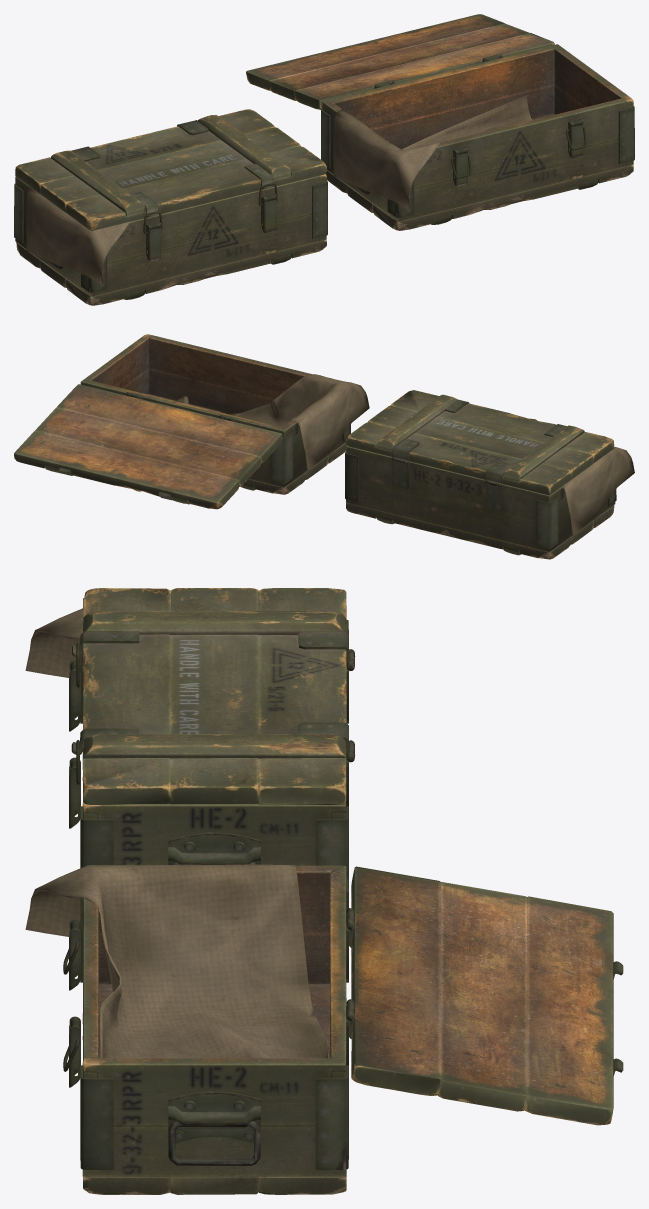
The model's file is military_crate.glb.
3 views of the same model, one above another, from view 1: azimuth 30°, elevation 25°; view 2: azimuth 150°, elevation 25°; view 3: azimuth 270°, elevation 25° (orthographic). The views are drawn at different scales.
Parts seen in each view (by area): view 1: old_military_crate_b, old_military_crate_lid_a, old_military_crate_a, old_military_crate_lid_b, old_military_crate_cloth_b, old_military_crate_cloth_a, old_military_crate_latch_a, old_military_crate_latch_b; view 2: old_military_crate_lid_b, old_military_crate_lid_a, old_military_crate_a, old_military_crate_b, old_military_crate_cloth_b, old_military_crate_cloth_a; view 3: old_military_crate_lid_a, old_military_crate_lid_b, old_military_crate_b, old_military_crate_cloth_b, old_military_crate_a, old_military_crate_cloth_a, old_military_crate_latch_b, old_military_crate_latch_a.
Boxes of the visible parts, bbox=[...] form: old_military_crate_b: bbox=[321, 44, 634, 230]; old_military_crate_lid_a: bbox=[15, 109, 326, 230]; old_military_crate_a: bbox=[14, 174, 327, 305]; old_military_crate_lid_b: bbox=[246, 14, 554, 109]; old_military_crate_cloth_b: bbox=[333, 95, 532, 209]; old_military_crate_cloth_a: bbox=[26, 187, 129, 284]; old_military_crate_latch_a: bbox=[146, 194, 276, 261]; old_military_crate_latch_b: bbox=[453, 119, 582, 186]; old_military_crate_lid_b: bbox=[14, 384, 282, 509]; old_military_crate_lid_a: bbox=[346, 390, 614, 495]; old_military_crate_a: bbox=[345, 446, 616, 559]; old_military_crate_b: bbox=[80, 334, 350, 494]; old_military_crate_cloth_b: bbox=[174, 374, 369, 470]; old_military_crate_cloth_a: bbox=[562, 447, 634, 535]; old_military_crate_lid_a: bbox=[71, 588, 355, 805]; old_military_crate_lid_b: bbox=[346, 866, 623, 1125]; old_military_crate_b: bbox=[80, 865, 354, 1194]; old_military_crate_cloth_b: bbox=[25, 864, 329, 1058]; old_military_crate_a: bbox=[80, 620, 354, 887]; old_military_crate_cloth_a: bbox=[25, 608, 82, 677]; old_military_crate_latch_b: bbox=[69, 919, 80, 1087]; old_military_crate_latch_a: bbox=[69, 660, 80, 828].
Bounding box in the file's own units: 1.15 × 0.1904 × 0.6181.
Materials: 1 (1 with a texture image).
